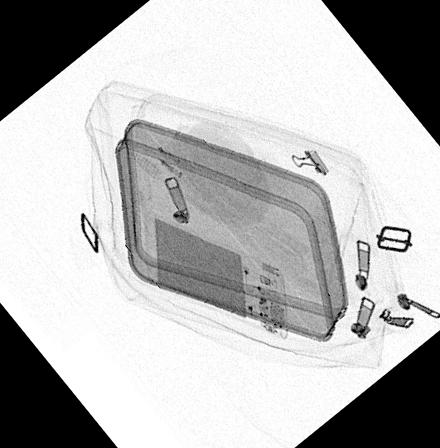Powerbank: (144, 210, 288, 339)
